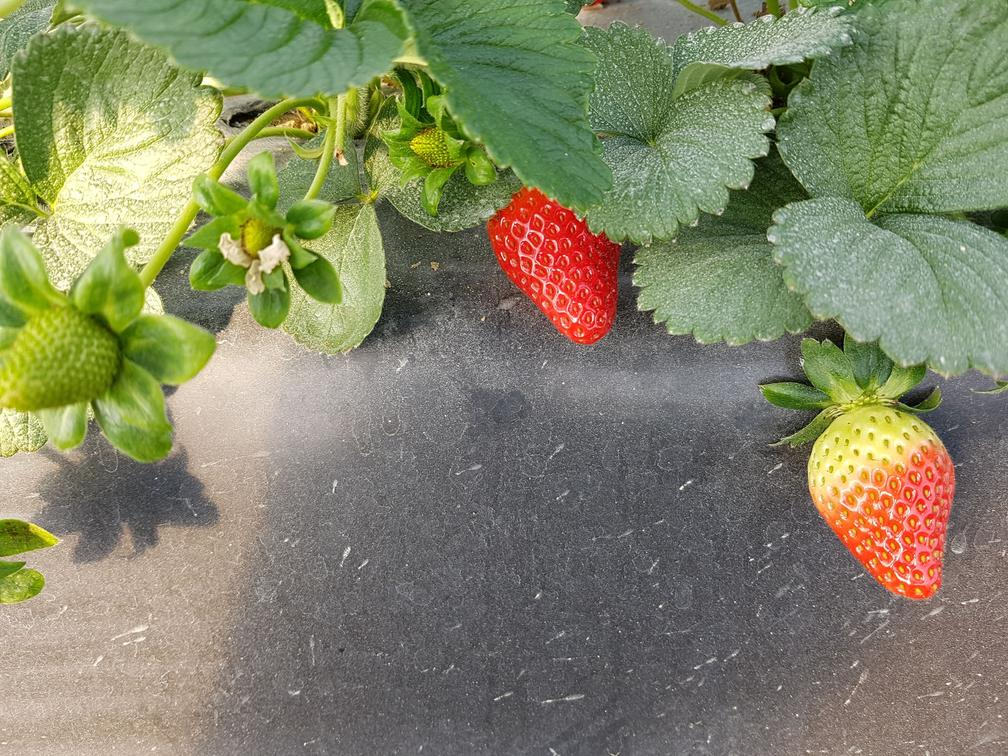Ripe: (479, 190, 628, 343)
Unripe: (806, 405, 967, 601), (5, 306, 119, 408)
